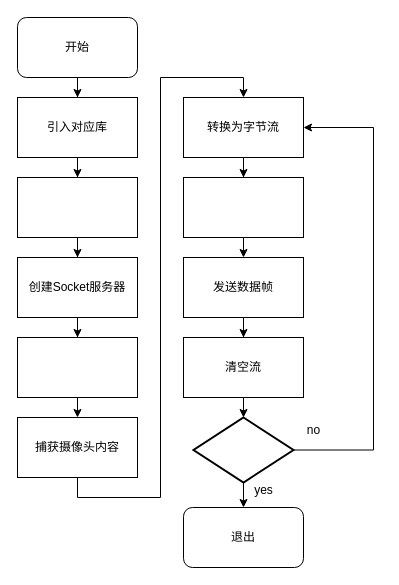
The diagram is 399 pixels wide and 585 high, and some of its shapes have lost their labels. The shapes that lost their labels are listed below. From the top down, each one's box as (x1, y1, x2, y2) in pixels, then its label:
(16, 176, 138, 238): 初始化摄像头
(182, 176, 304, 238): 发送帧大小
(16, 336, 138, 398): 内存字节流
(192, 416, 294, 483): 是否结束
